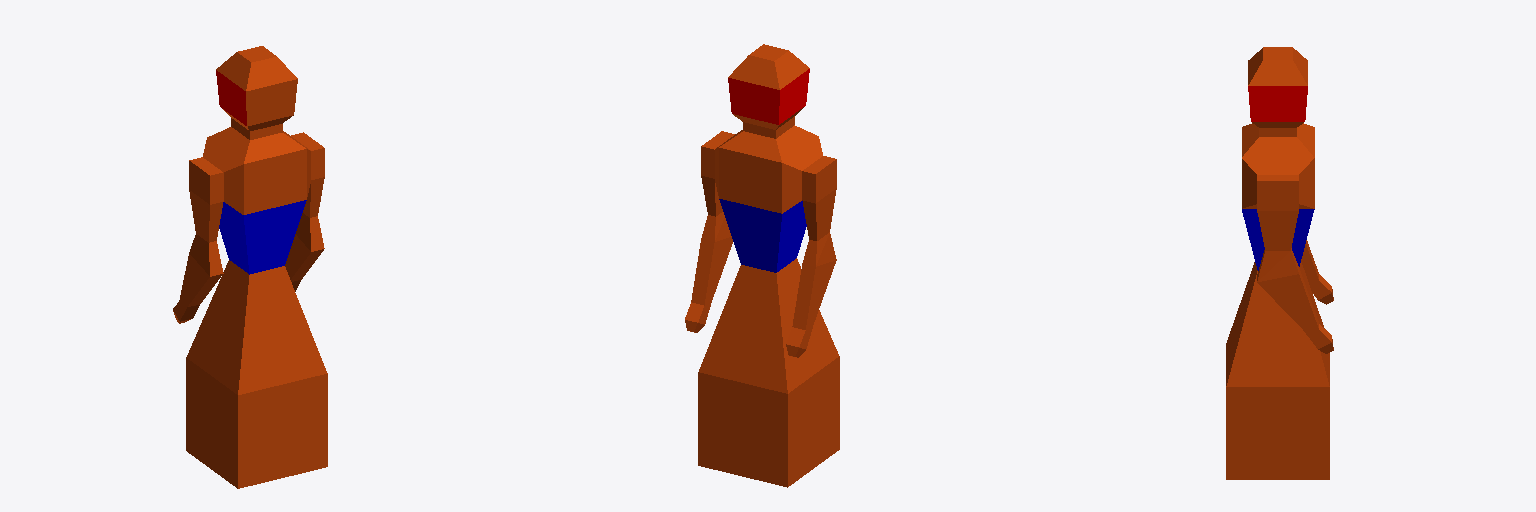
File: commented.obj
The picture shows the model from 3 angles: view 1: azimuth 30°, elevation 25°; view 2: azimuth 150°, elevation 25°; view 3: azimuth 270°, elevation 25°; orthographic projection.
Visible parts, largest first — view 1: Cube; view 2: Cube; view 3: Cube.
Part boxes in pixels (bbox=[...]): Cube: bbox=[173, 46, 327, 488]; Cube: bbox=[685, 44, 839, 487]; Cube: bbox=[1226, 47, 1333, 479].
Bounding box in the file's own units: 2.56 × 8.65 × 2.07.